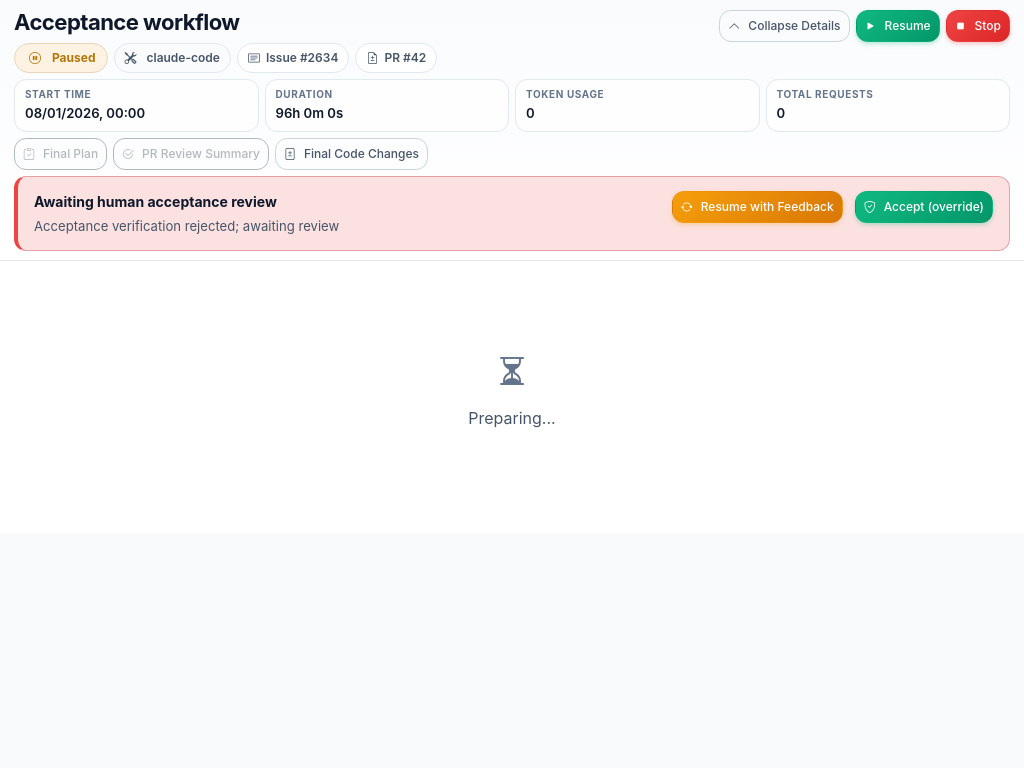
it: WorkflowTimeline feedback-pending restart state (#2491 UX) › pre-fills the feedback modal with the verifier failed-items prefill
The width and height of the screenshot is (1024, 768).
What coordinates should you click on to do the following:
click the button with aria-label "new development round"
I would click on:
 (757, 207)
Its box is [672,191,843,223].
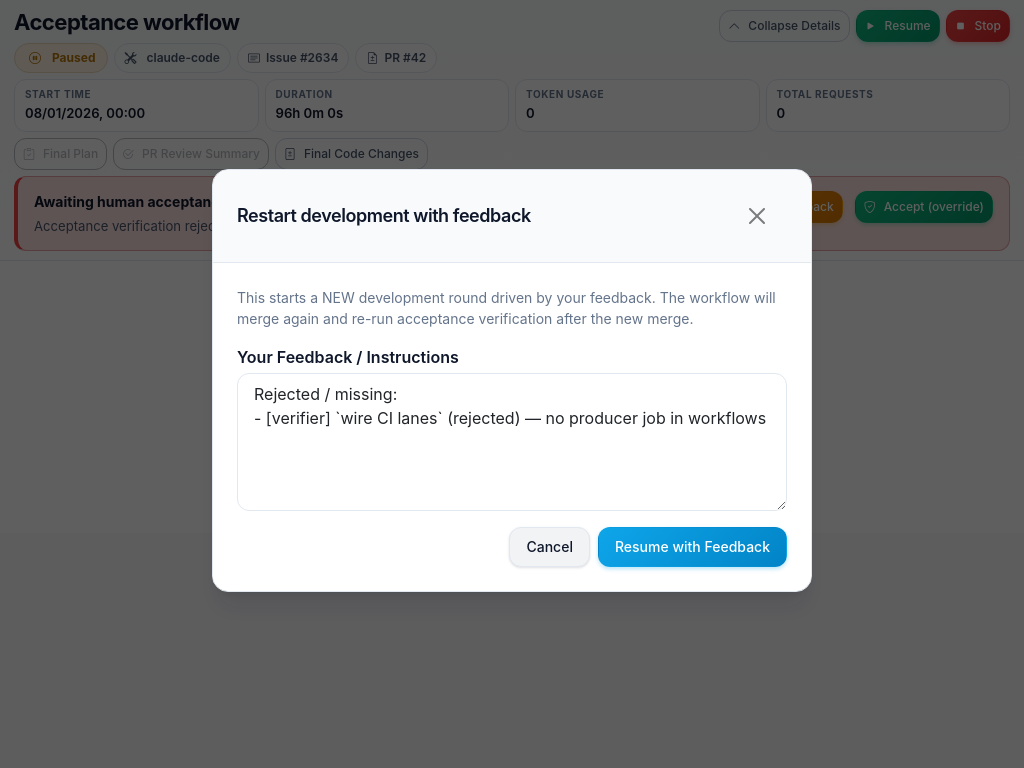
Now the button "Resume with Feedback" is enabled, box [598,526,787,566]
